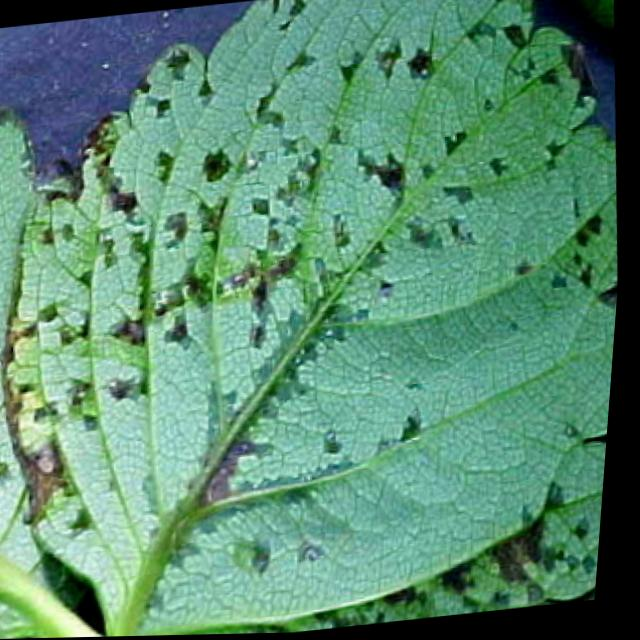Angular Leafspot: (2, 0, 622, 637), (0, 102, 96, 639)
